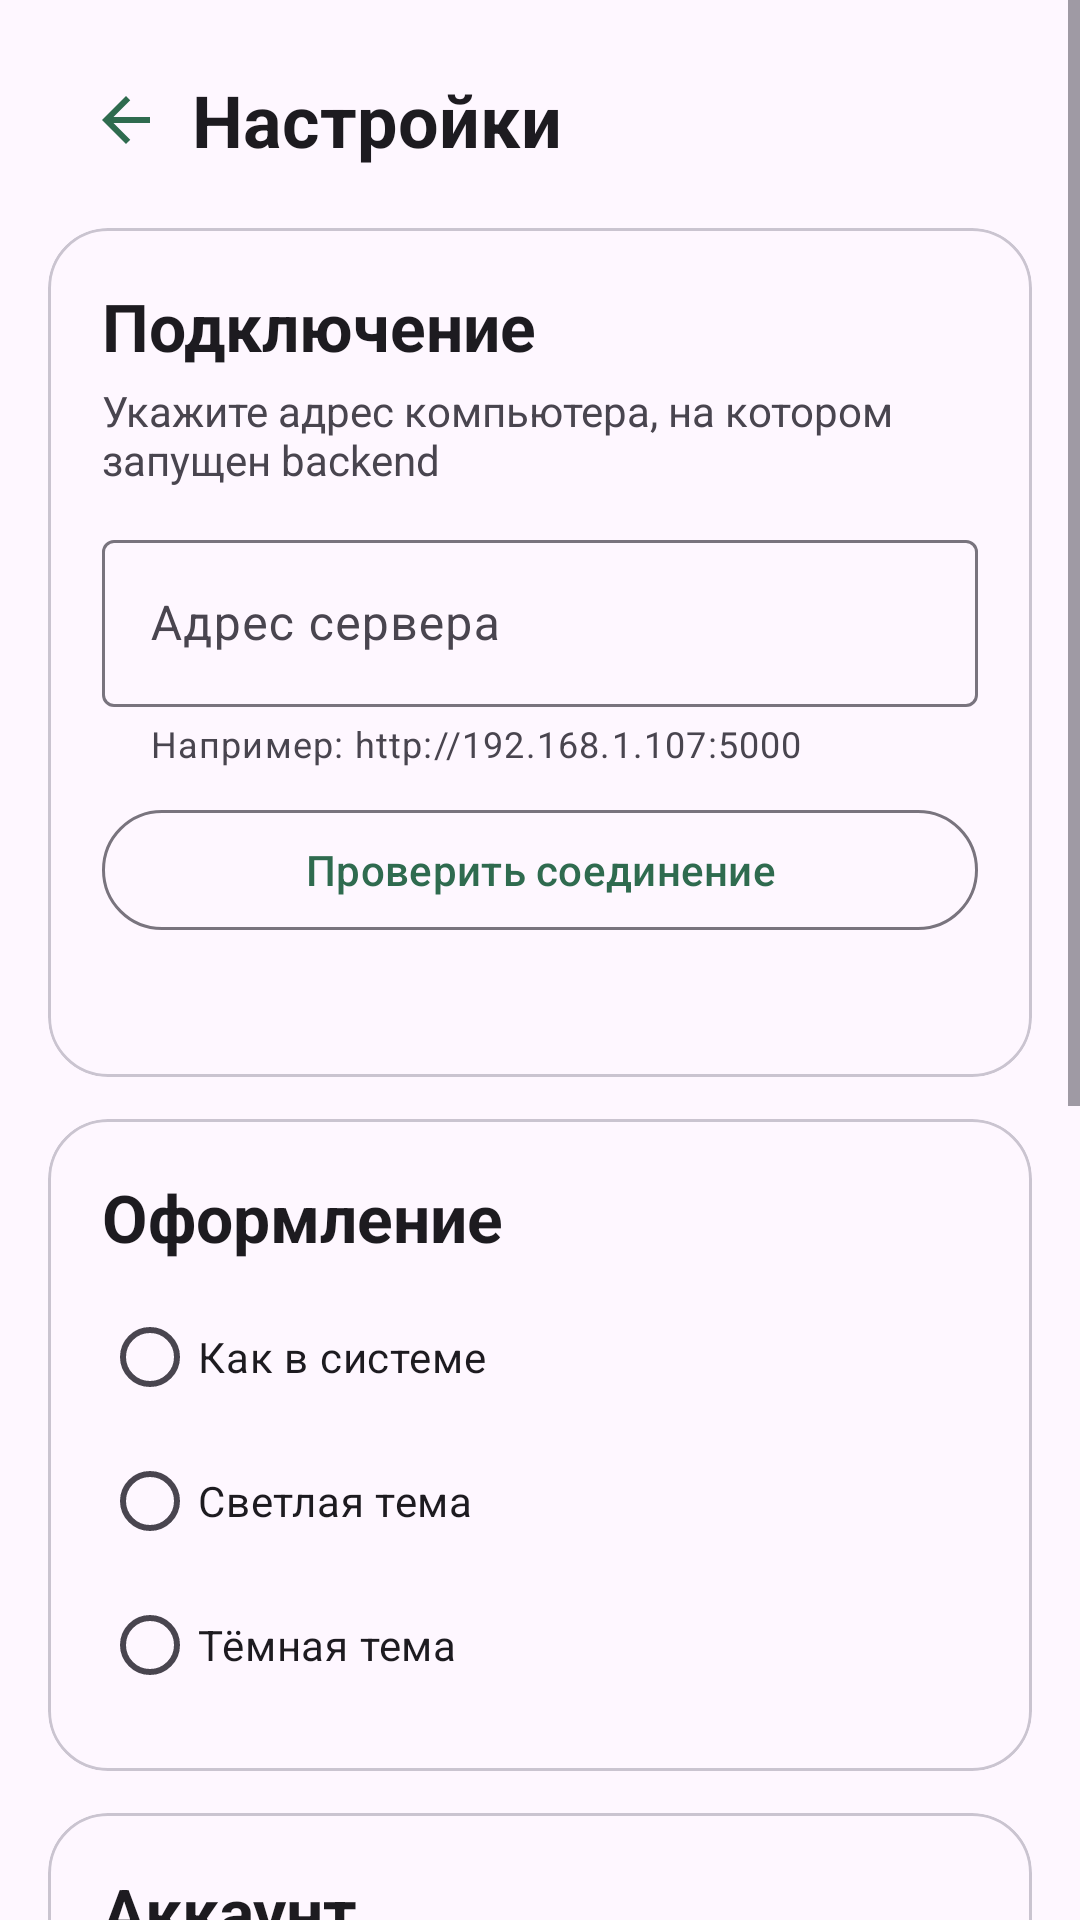

Icons on this 1080 × 1920 Android screen, each with the point to tap as point (x, y):
Назад: point (126, 120)
